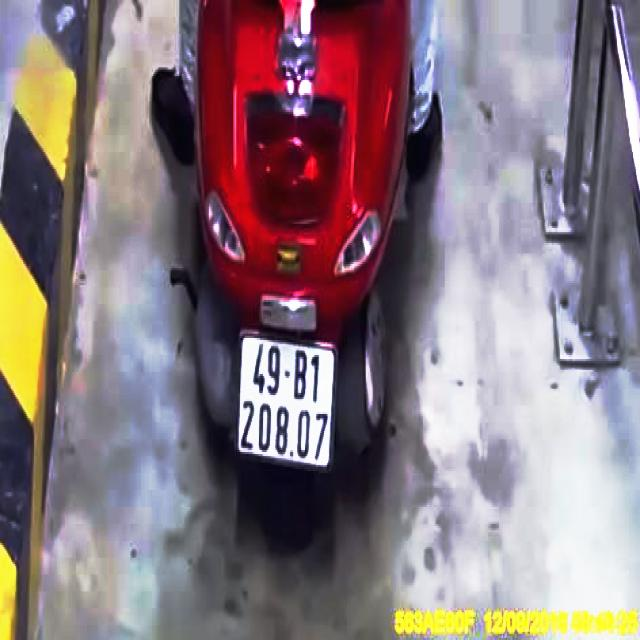license_plate: (239, 335, 338, 471)
